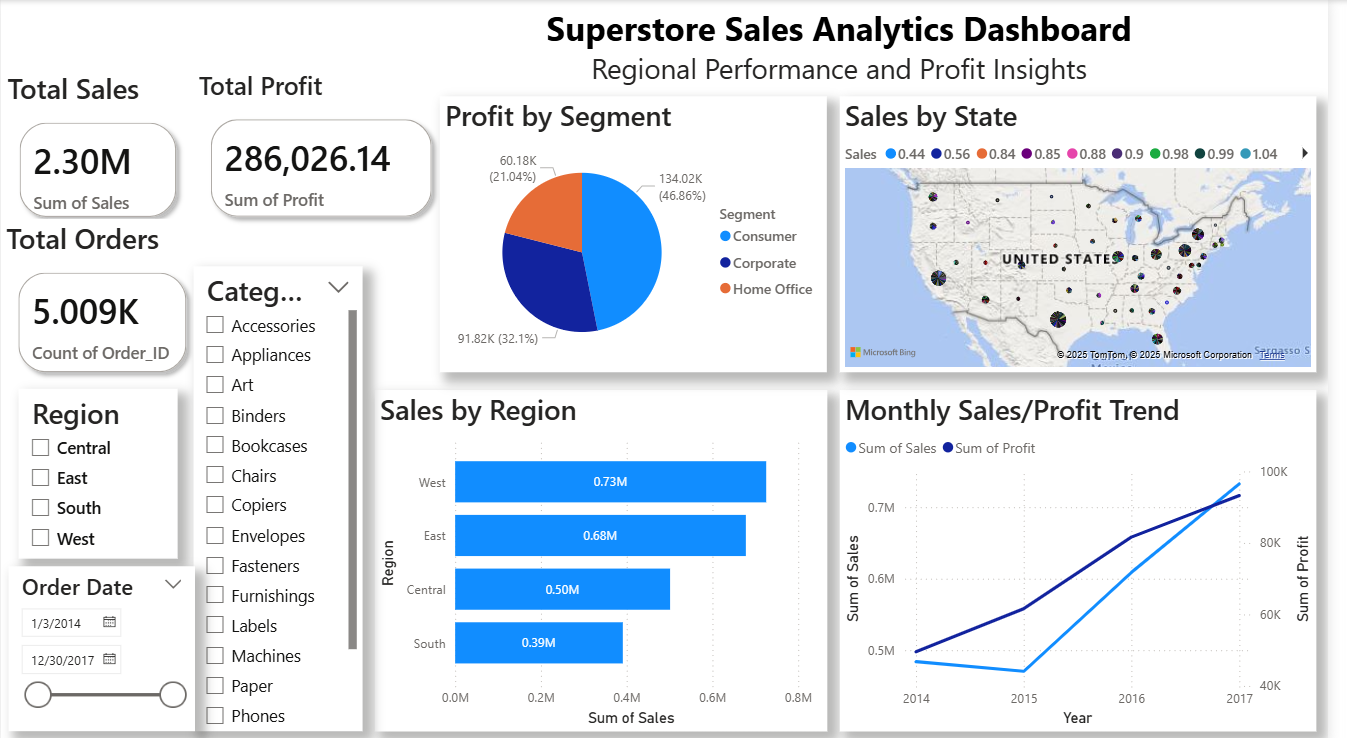

The page's visual inventory and layout, read from the dashboard file:
{"tool":"powerbi","page":{"name":"Superstore Sales Analytics Dashboard ","canvas":[1280,720],"ordinal":0},"visuals":[{"type":"cardVisual","title":"Total Sales","fields":{"Data":["Sum(US Superstore data.Sales)"]},"box":[1.2,66.4,185.8,160.5],"z":0},{"type":"cardVisual","title":"Total Profit","fields":{"Data":["Sum(US Superstore data.Profit)"]},"box":[185.8,66.4,247.3,160.5],"z":1000},{"type":"cardVisual","title":"Total Orders","fields":{"Data":["Count(US Superstore data.Order_ID)"]},"box":[0,211.1,196.6,165.3],"z":3000},{"type":"barChart","title":"Sales by Region","fields":{"Y":["Sum(US Superstore data.Sales)"],"Category":["US Superstore data.Region"]},"box":[360.7,376.4,436.7,329.4],"z":4000},{"type":"pieChart","title":"Profit by Segment","fields":{"Category":["US Superstore data.Segment"],"Y":["Sum(US Superstore data.Profit)"]},"box":[423.5,92.9,374,266.6],"z":5000},{"type":"lineChart","title":"Monthly Sales/Profit Trend","fields":{"Category":["US Superstore data.Order_Date.Variation.Date Hierarchy.Year","US Superstore data.Order_Date.Variation.Date Hierarchy.Month"],"Y":["Sum(US Superstore data.Sales)"],"Y2":["Sum(US Superstore data.Profit)"]},"box":[809.5,376.4,459.7,329.4],"z":6000},{"type":"map","title":"Sales by State","fields":{"Category":["US Superstore data.State"],"Size":["Sum(US Superstore data.Sales)"],"Series":["US Superstore data.Sales"]},"box":[809.5,92.9,459.7,266.6],"z":7000},{"type":"slicer","fields":{"Values":["US Superstore data.Region"]},"box":[16.9,375.2,153.2,164.1],"z":8000},{"type":"slicer","fields":{"Values":["US Superstore data.Sub_Category"]},"box":[185.8,257,162.9,448.8],"z":9000},{"type":"slicer","fields":{"Values":["US Superstore data.Order_Date"]},"box":[7.2,546.5,179.8,159.3],"z":10000},{"type":"textbox","box":[515.2,0,587.5,92.9],"z":12000}]}

Visuals, with their boxes in screenshot pixels (x1, y1, x2, y2), scaled from the page's 1280x720 canvas onto the 1347x738 screenshot:
"Total Sales" cardVisual: BBox(1, 68, 197, 233)
"Total Profit" cardVisual: BBox(196, 68, 456, 233)
"Total Orders" cardVisual: BBox(0, 216, 207, 386)
"Sales by Region" barChart: BBox(380, 386, 839, 723)
"Profit by Segment" pieChart: BBox(446, 95, 839, 368)
"Monthly Sales/Profit Trend" lineChart: BBox(852, 386, 1336, 723)
"Sales by State" map: BBox(852, 95, 1336, 368)
slicer - US Superstore data.Region: BBox(18, 385, 179, 553)
slicer - US Superstore data.Sub_Category: BBox(196, 263, 367, 723)
slicer - US Superstore data.Order_Date: BBox(8, 560, 197, 723)
textbox: BBox(542, 0, 1160, 95)
